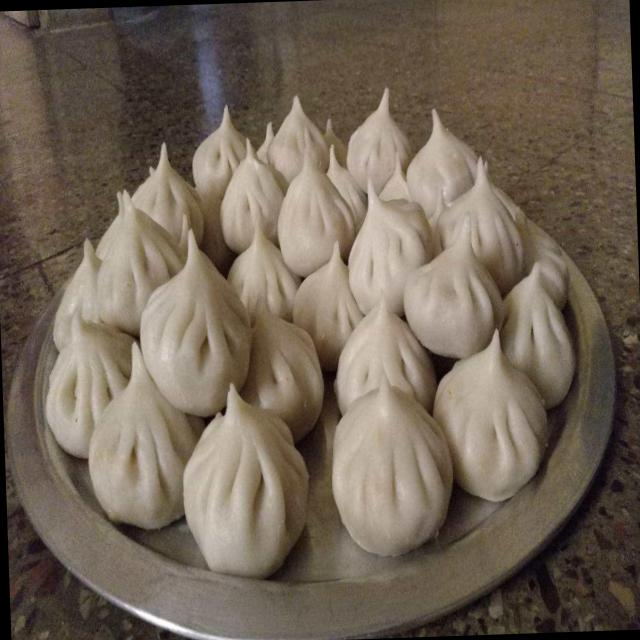modak: (38, 94, 590, 586)
